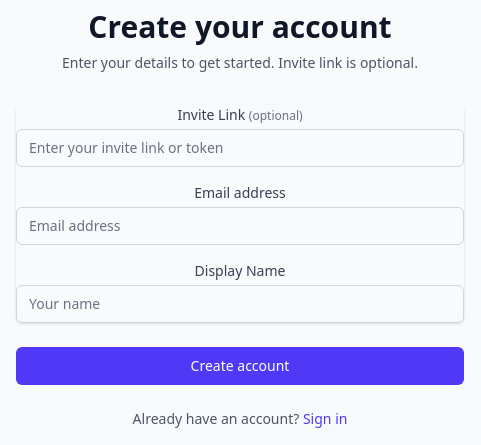
RegisterPage › disables form fields when invite is invalid
Type "invalid-token" into the field with placeholder "Enter your invite link or token" at (240, 148), box [16,129,464,167]
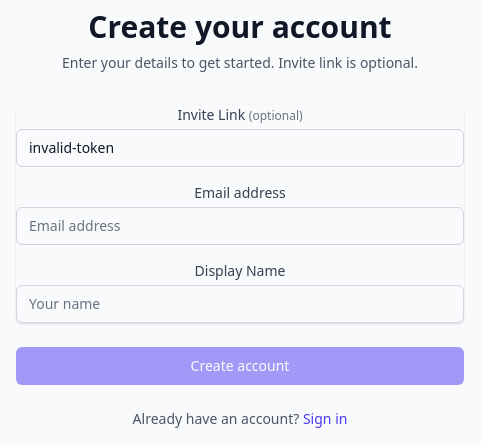
Expected: the field labelled "Email address" is disabled, [16,207,464,245]
Result: the button "Create account" is disabled at [16,347,464,385]
